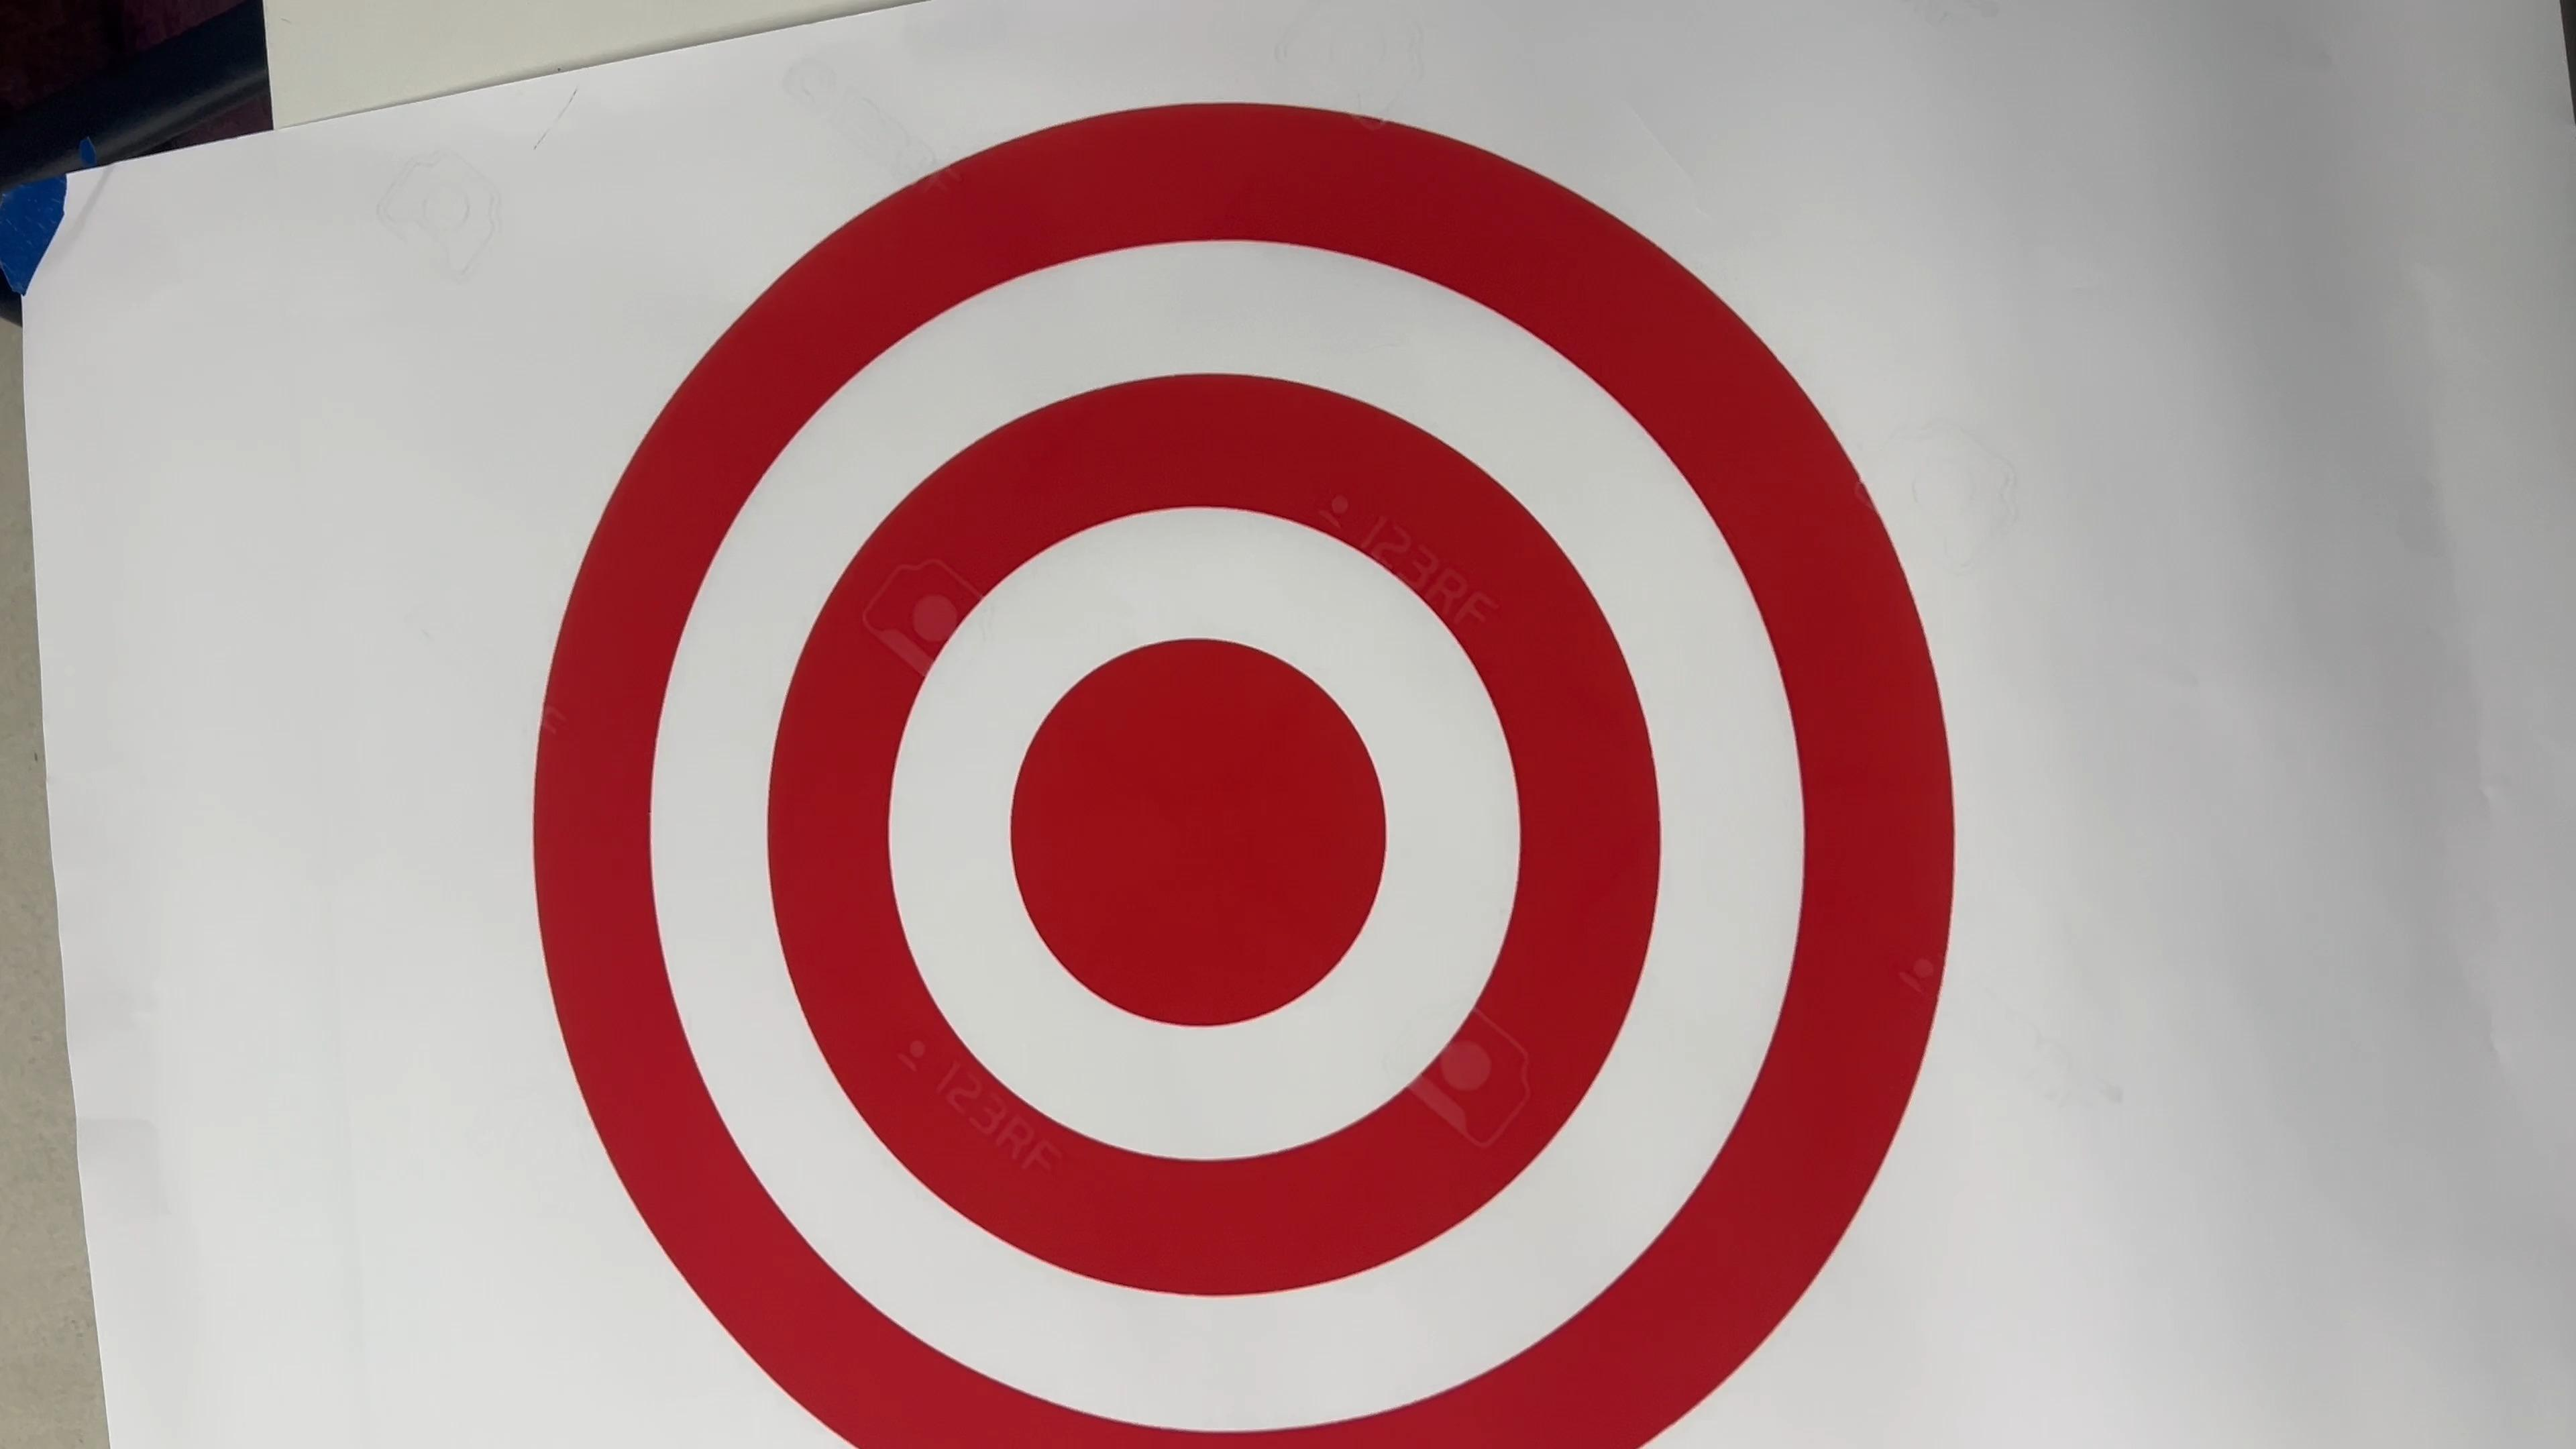target_red: (464, 35, 1992, 1449)
